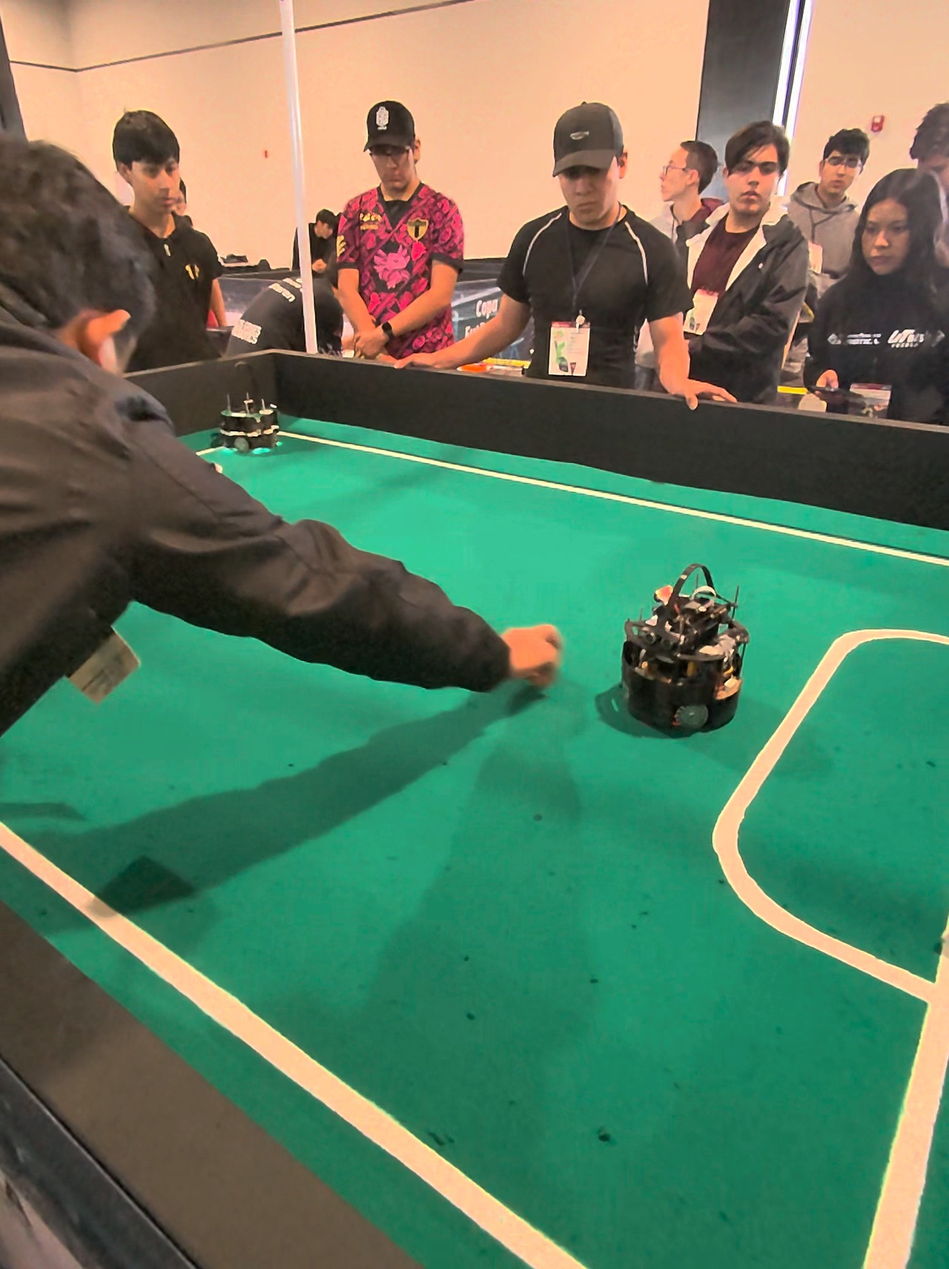Robot: (618, 563, 750, 746), (217, 351, 284, 457)
